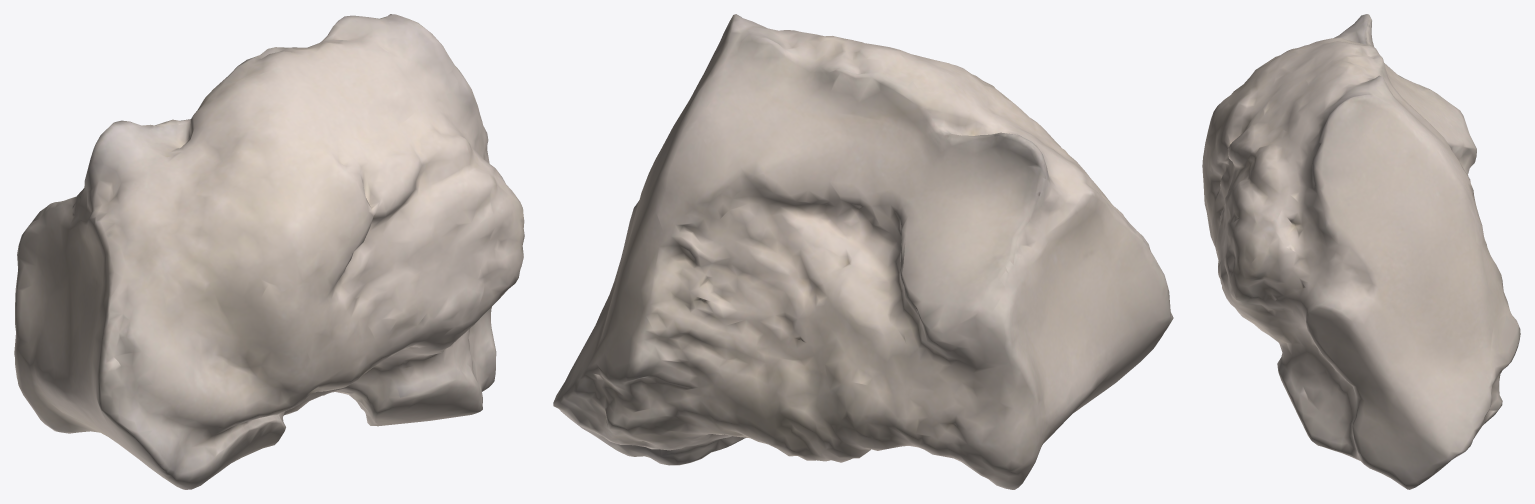
3 renders of one model, left to right at view 1: azimuth 30°, elevation 25°; view 2: azimuth 150°, elevation 25°; view 3: azimuth 270°, elevation 25°, orthographic. The views are drawn at different scales.
Parts seen in each view (by area): view 1: Os tarsale secundum_li_Schwein.001; view 2: Os tarsale secundum_li_Schwein.001; view 3: Os tarsale secundum_li_Schwein.001.
Part boxes in pixels (box(x1,y1,x2,y2)): Os tarsale secundum_li_Schwein.001: box(14, 14, 524, 489); Os tarsale secundum_li_Schwein.001: box(553, 14, 1173, 489); Os tarsale secundum_li_Schwein.001: box(1202, 14, 1520, 489).
Bounding box in the file's own units: 1470 × 1215 × 979.
Materials: 1 (1 with a texture image).
